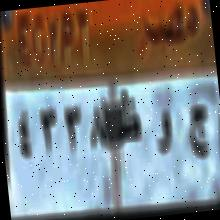3: (35, 101, 63, 168), (58, 97, 86, 161)
4: (14, 111, 39, 178)
8: (85, 99, 110, 159)
Thaa: (110, 81, 145, 158)
jeem: (176, 87, 219, 171)
waw: (145, 104, 177, 170)
